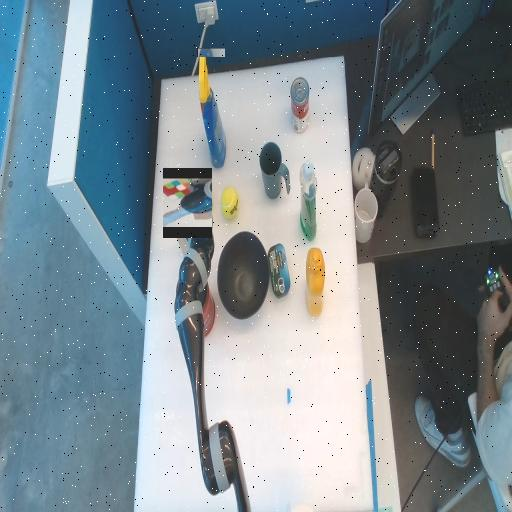bowl: (217, 250, 268, 302)
cleanser: (300, 161, 316, 241)
coffee_can: (176, 267, 214, 338)
jaco: (163, 179, 212, 228)
meat_can: (267, 244, 289, 298)
mug: (258, 156, 289, 186)
mustard_bottle: (305, 249, 324, 317)
rubik: (190, 174, 212, 217)
soup_can: (290, 97, 308, 115)
tennis_ball: (221, 188, 238, 218)
windex: (198, 49, 225, 167)
wooden_block: (171, 208, 195, 254)
workspace: (135, 57, 372, 509)
